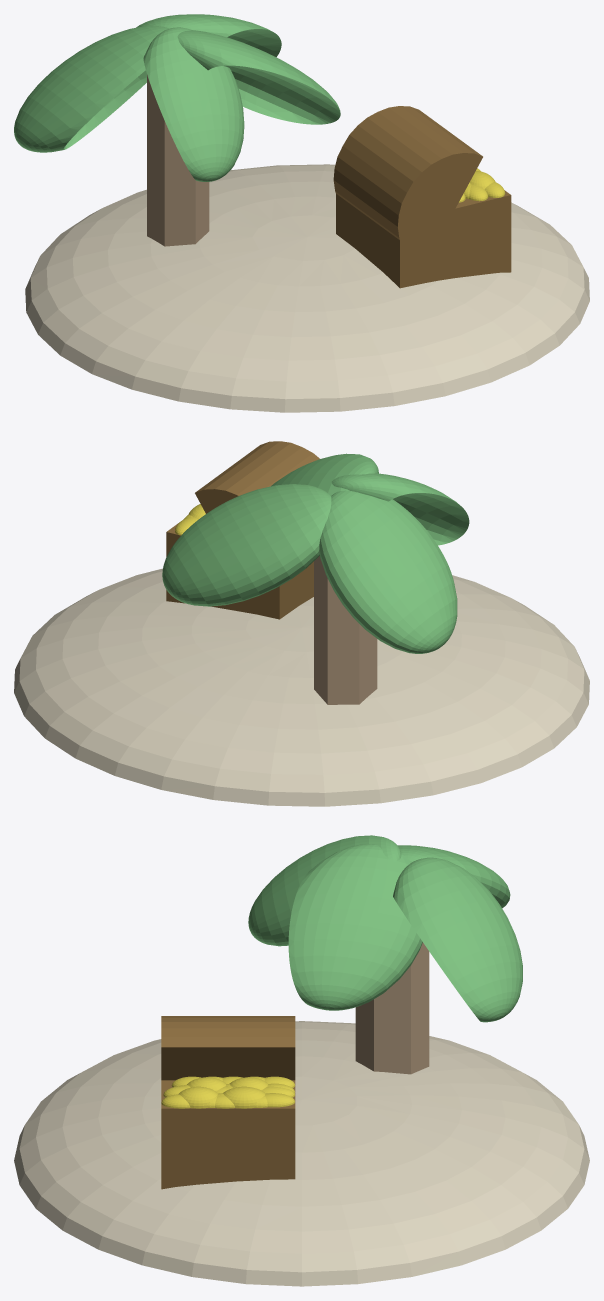
File: Copy of Island.glb
The picture shows the model from 3 angles, top to bottom: view 1: azimuth 30°, elevation 25°; view 2: azimuth 150°, elevation 25°; view 3: azimuth 270°, elevation 25°; orthographic projection. The views are drawn at different scales.
Visible parts, largest first — view 1: Mesh_Mesh_head_geo.001_lambert2SG.001; view 2: Mesh_Mesh_head_geo.001_lambert2SG.001; view 3: Mesh_Mesh_head_geo.001_lambert2SG.001.
Boxes of the visible parts, bbox=[...] form: Mesh_Mesh_head_geo.001_lambert2SG.001: bbox=[14, 14, 589, 412]; Mesh_Mesh_head_geo.001_lambert2SG.001: bbox=[14, 441, 589, 806]; Mesh_Mesh_head_geo.001_lambert2SG.001: bbox=[14, 835, 589, 1286].
Size of the model in its own units: 89 by 44.4 by 86.
